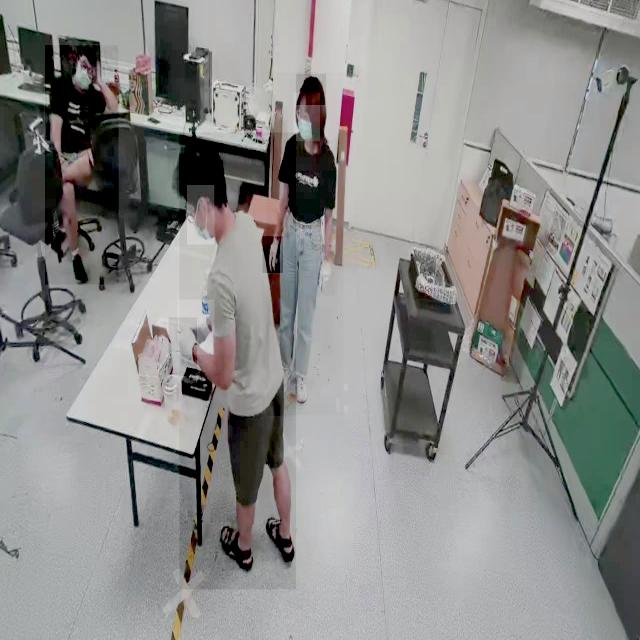face_mask: (187, 185, 215, 244), (294, 92, 320, 142), (73, 56, 93, 93)
hand_glove: (178, 300, 214, 354), (169, 317, 197, 376), (316, 255, 336, 297), (263, 236, 283, 273)
hand_noglove: (94, 67, 102, 86)
head_nohelmet: (168, 132, 224, 182), (296, 74, 326, 106), (77, 40, 99, 57)
person: (180, 132, 296, 590), (266, 72, 344, 416), (45, 46, 119, 286)
shoes: (293, 356, 310, 409), (71, 248, 89, 287)
